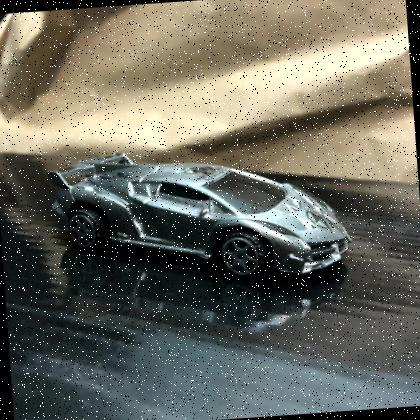Car: (46, 155, 352, 278)
